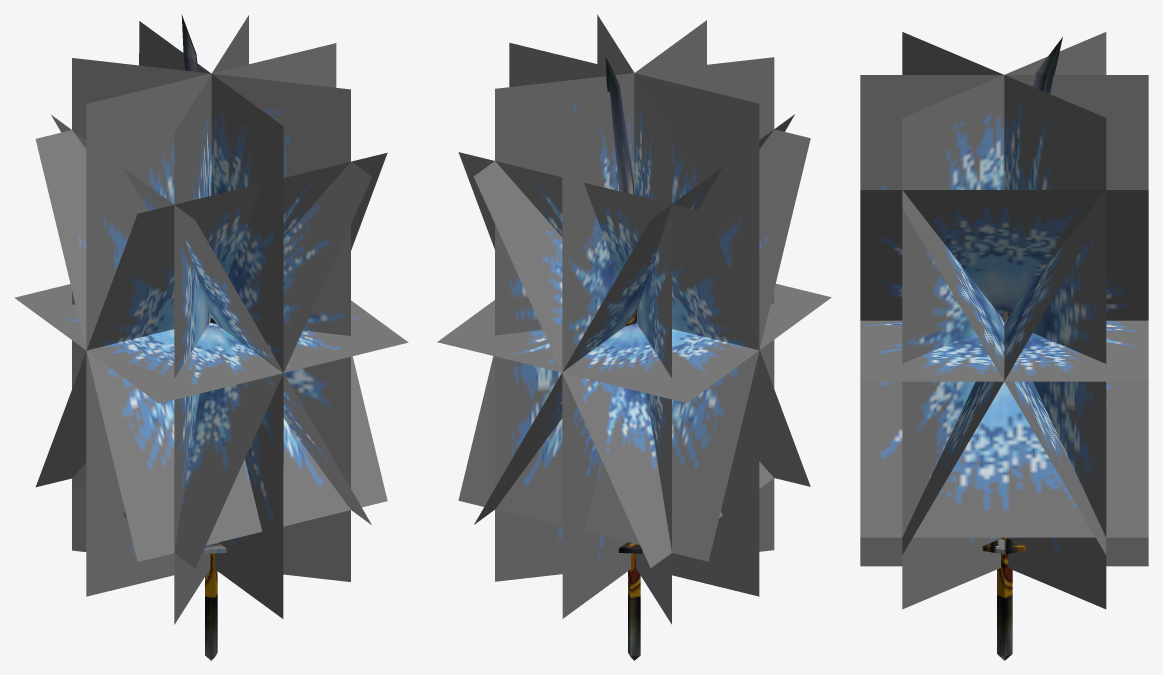
Rendered from heavybladev06.obj.
The picture shows the model from 3 angles, left to right: view 1: azimuth 30°, elevation 25°; view 2: azimuth 150°, elevation 25°; view 3: azimuth 270°, elevation 25°; orthographic projection.
Parts seen in each view (by area): view 1: MDL_cw2hkt06; view 2: MDL_cw2hkt06; view 3: MDL_cw2hkt06.
Boxes of the visible parts, bbox=[...] form: MDL_cw2hkt06: bbox=[14, 14, 408, 660]; MDL_cw2hkt06: bbox=[437, 14, 831, 660]; MDL_cw2hkt06: bbox=[860, 32, 1148, 660].
Bounding box in the file's own units: 0.735 × 1.76 × 0.7362.
